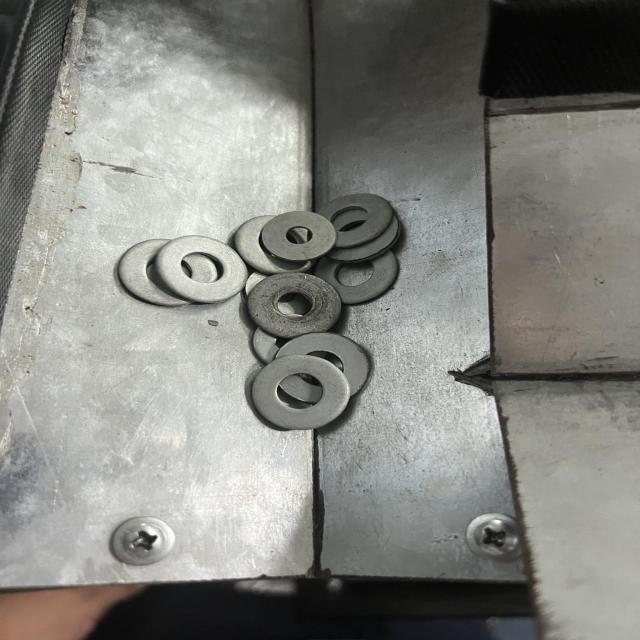washer: (250, 354, 352, 432), (156, 234, 245, 304), (251, 273, 346, 334), (264, 210, 332, 260)
